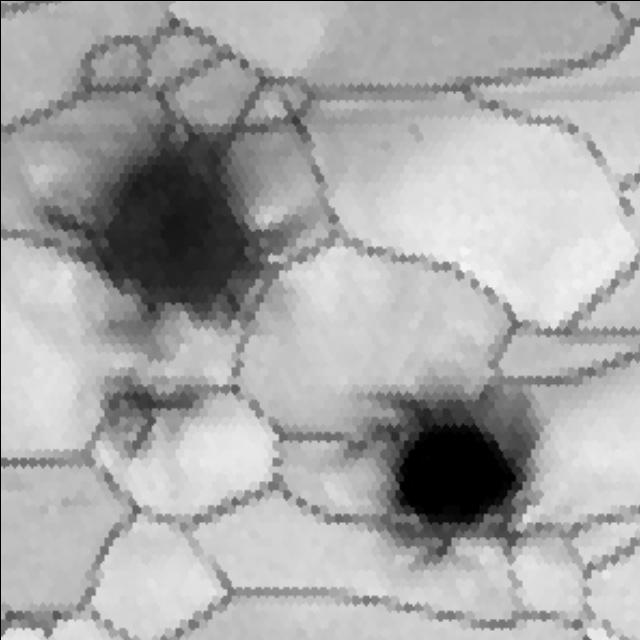good_void: (34, 121, 327, 356), (331, 378, 546, 557), (79, 365, 202, 459), (400, 115, 426, 145)
